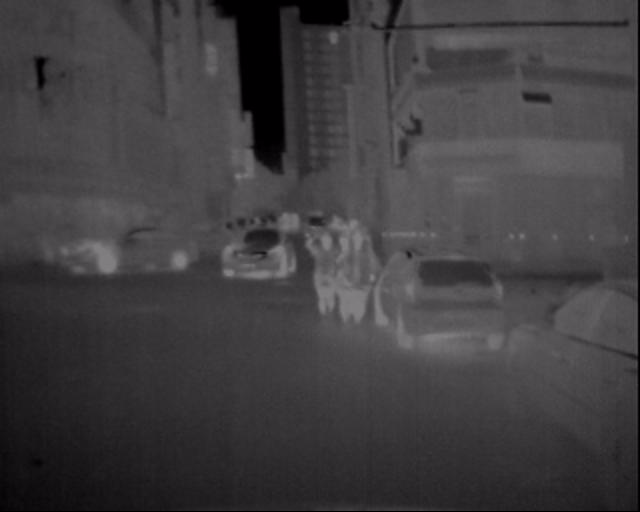person: (301, 212, 345, 329), (344, 214, 381, 327), (331, 211, 360, 329)
